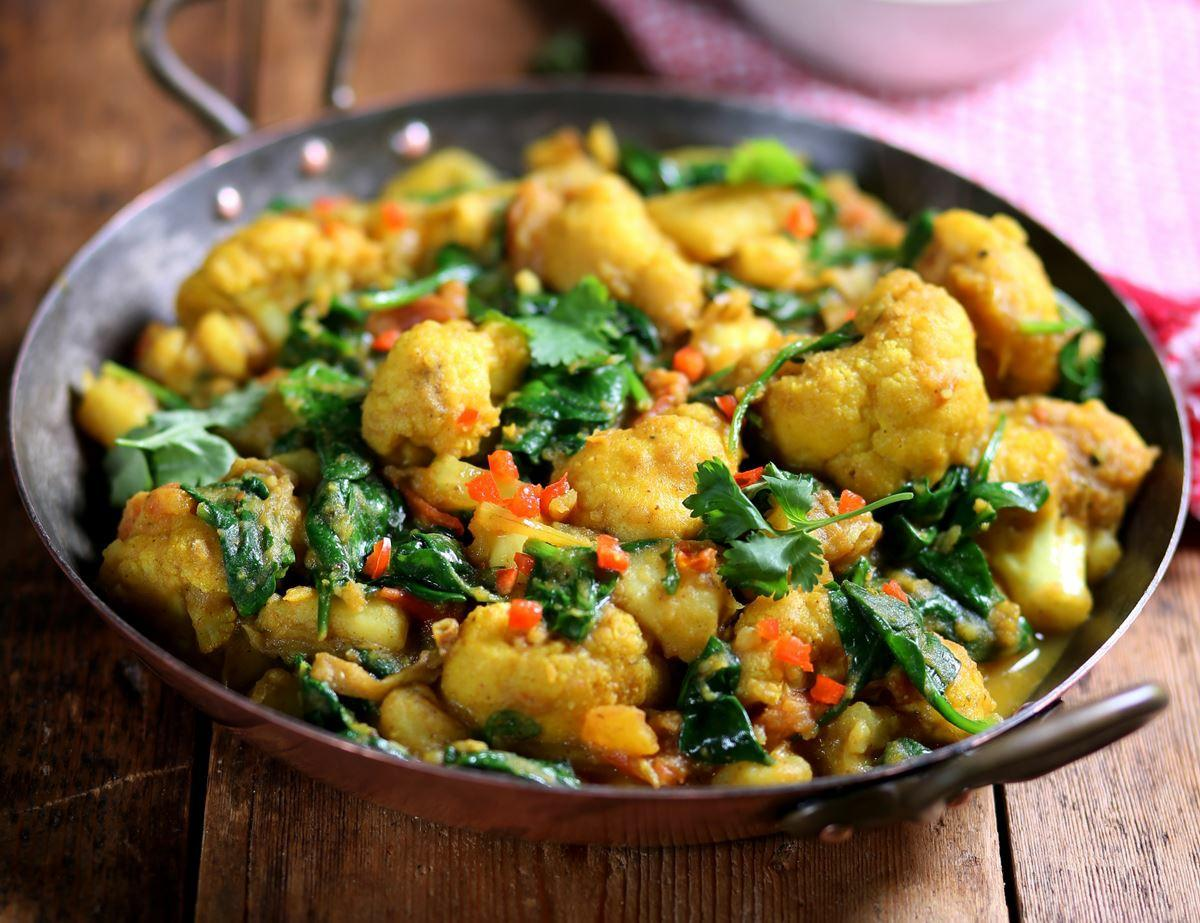AlooGobi: (75, 116, 1163, 789)
